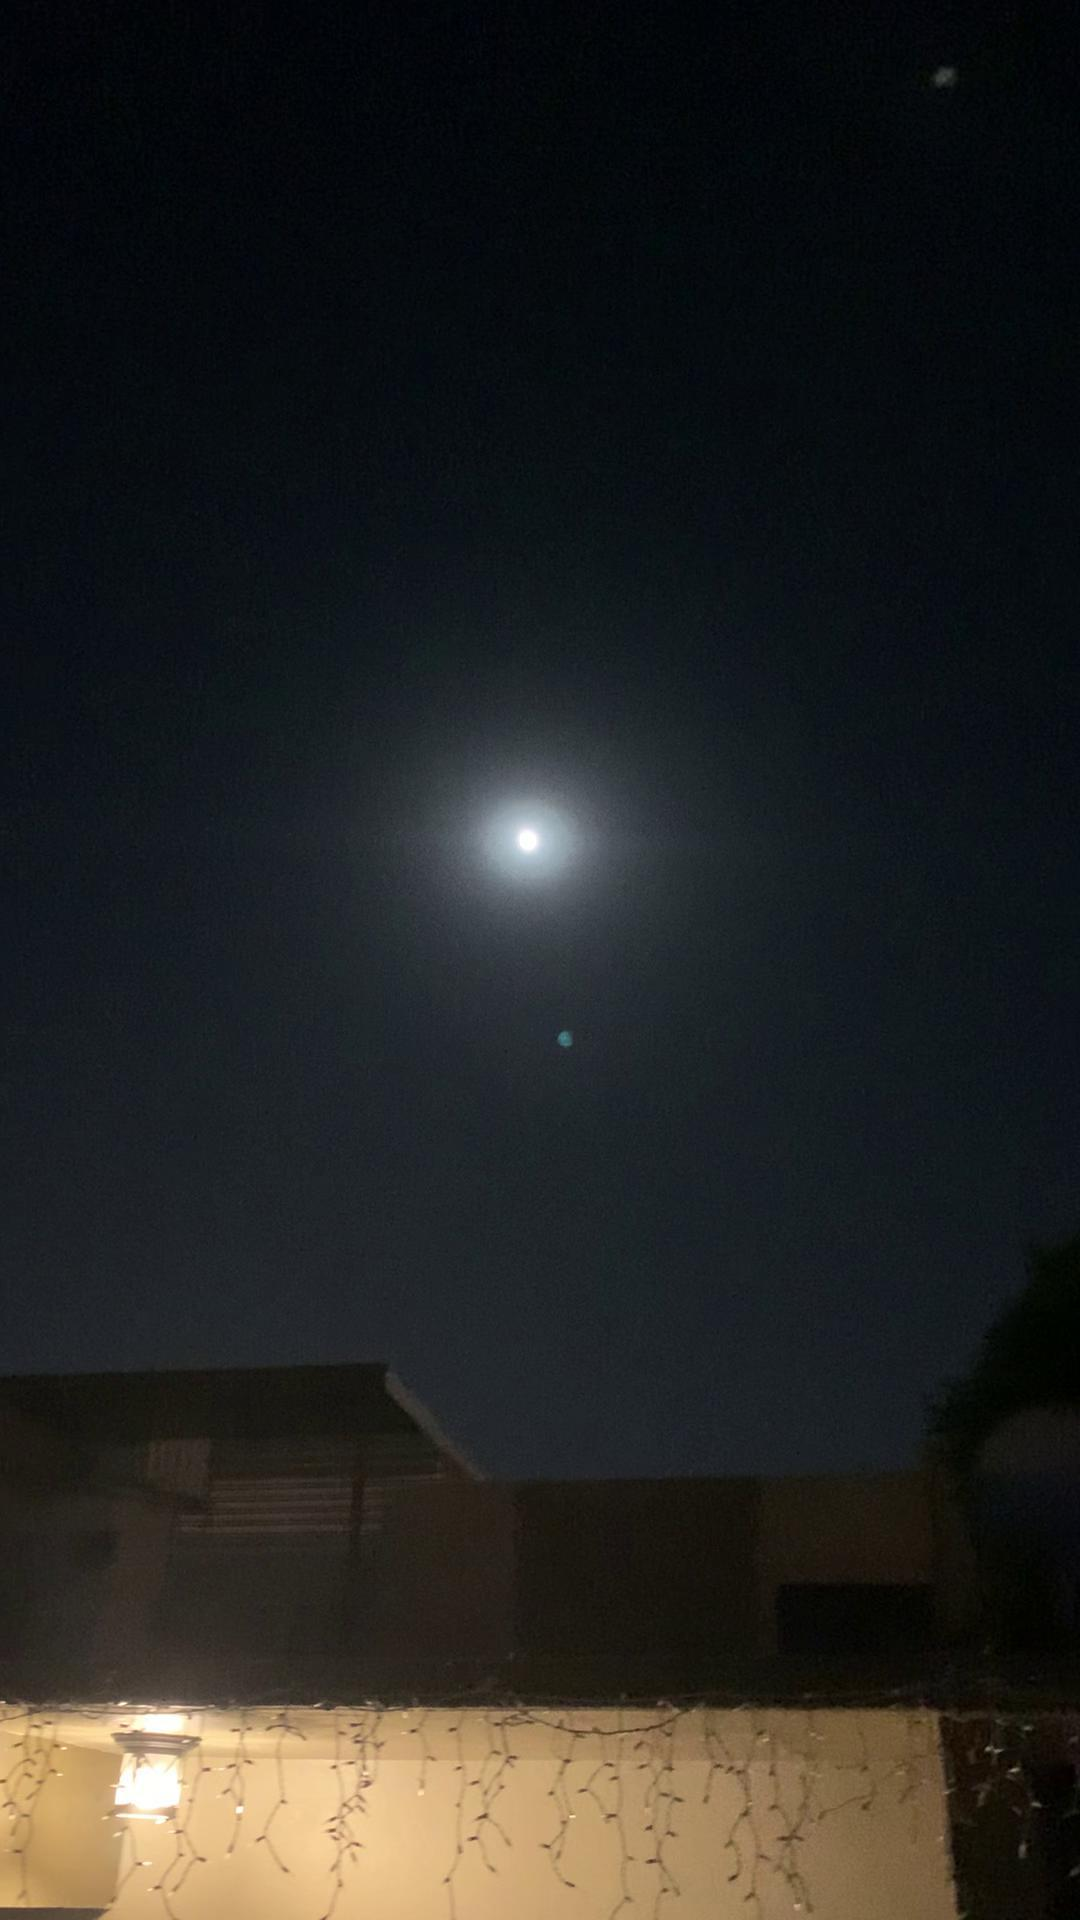moon: (488, 799, 575, 894)
